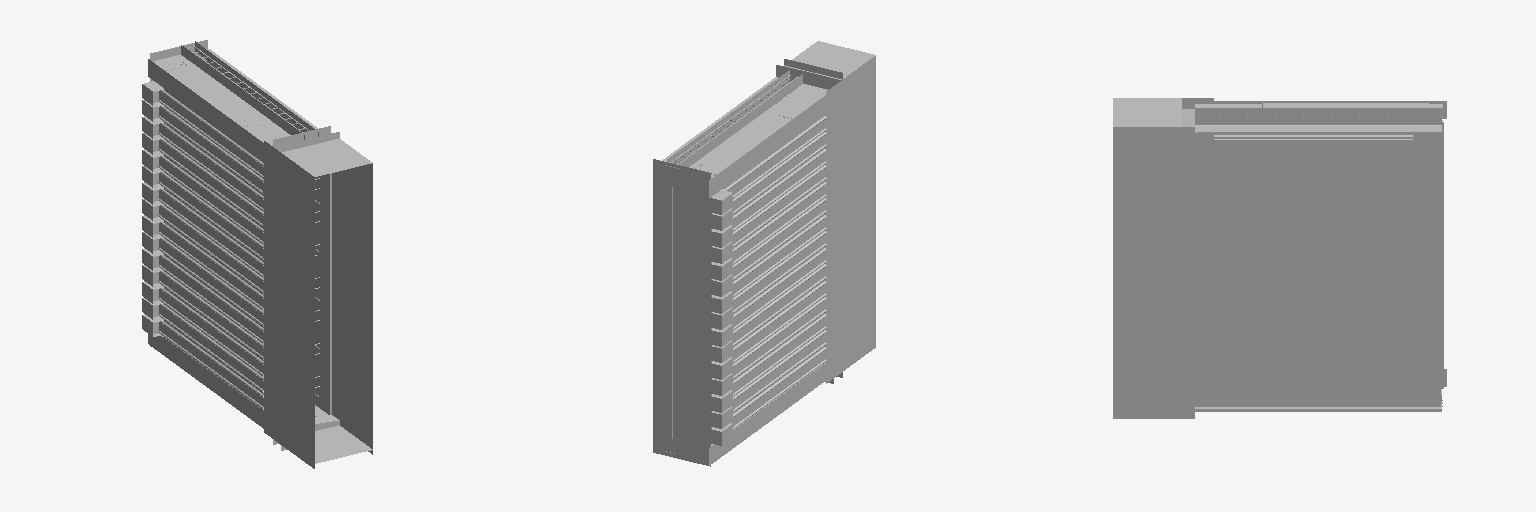
File: alley3.obj
3 views of the same model, side by side, from view 1: azimuth 30°, elevation 25°; view 2: azimuth 150°, elevation 25°; view 3: azimuth 270°, elevation 25° (orthographic).
Parts seen in each view (by area): view 1: Venue01.lwo; view 2: Venue01.lwo; view 3: Venue01.lwo.
Boxes of the visible parts, box(x1,y1,x2,y2) form: Venue01.lwo: box(142, 40, 372, 468); Venue01.lwo: box(653, 41, 875, 466); Venue01.lwo: box(1113, 98, 1446, 418).
Size of the model in its own units: 8.39 by 36.15 by 35.85.